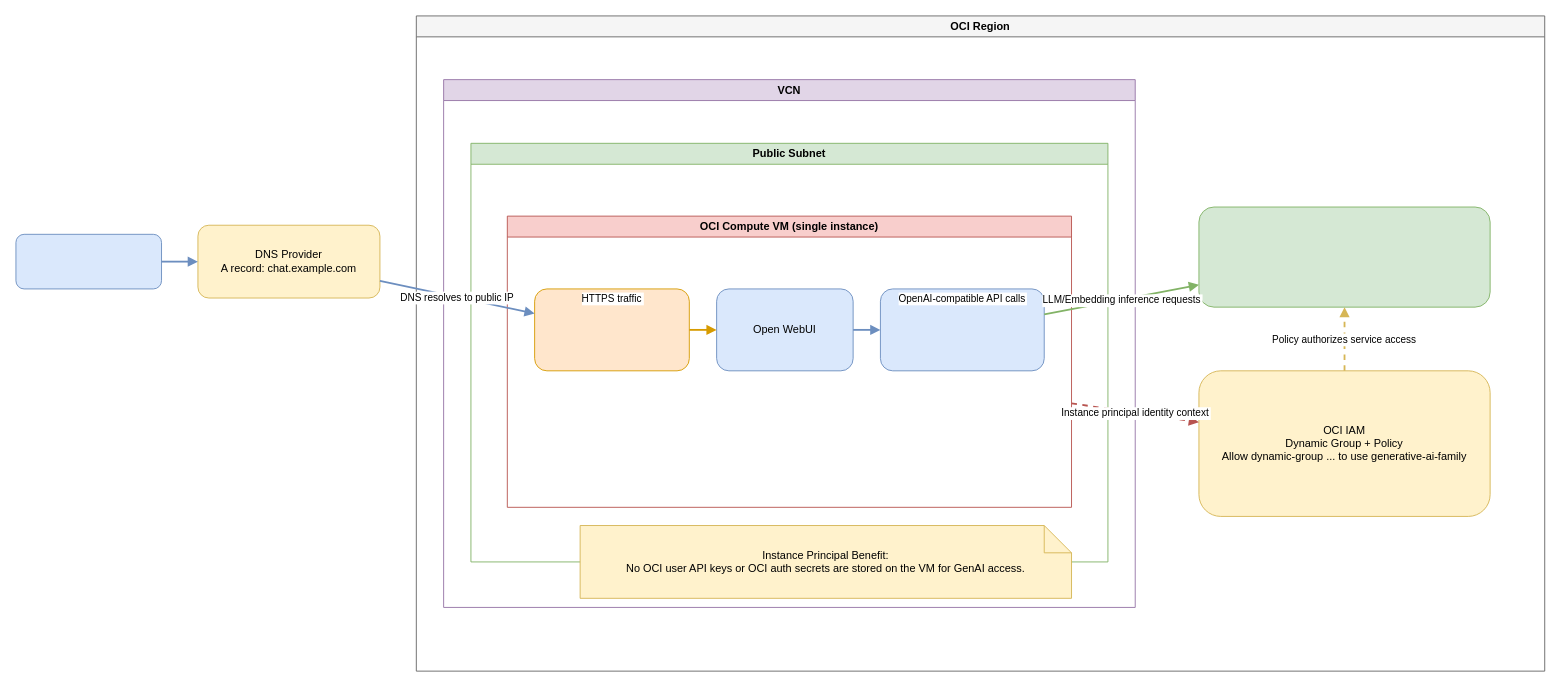
Image size: 1561x687. Some labels were removed from this diagram. The centre of each missing label's shape, as x and y in pixels:
OCI Generative AI Service (LLMs + Embeddings): point 1344,256
Python API Gateway (OpenAI-compatible): point 962,329
Traefik (HTTPS + Let's Encrypt): point 611,329
User Browser: point 88,261
